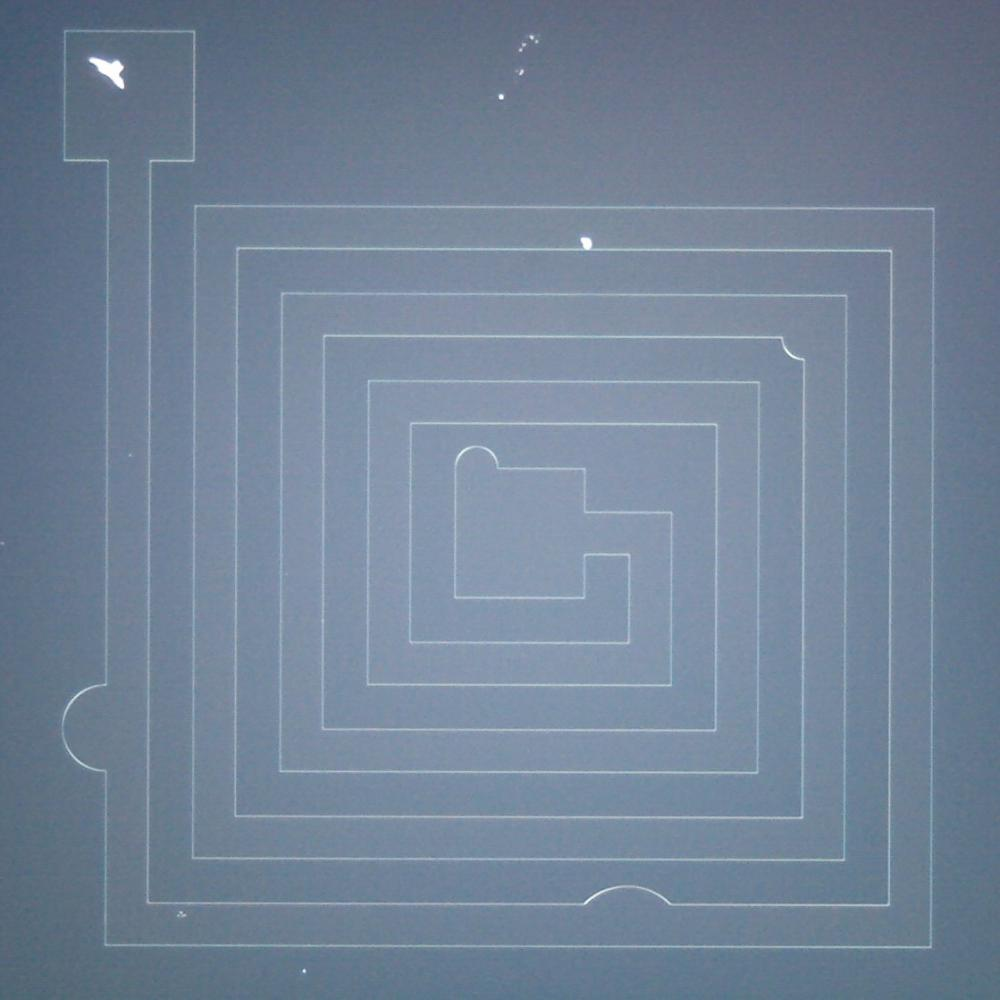curve: (91, 58, 123, 90)
dot: (581, 237, 592, 249), (519, 70, 525, 75), (499, 95, 504, 100), (182, 914, 186, 918), (522, 43, 526, 47), (518, 48, 522, 52), (302, 970, 306, 973), (530, 36, 533, 39), (535, 40, 538, 43), (180, 912, 182, 914)
